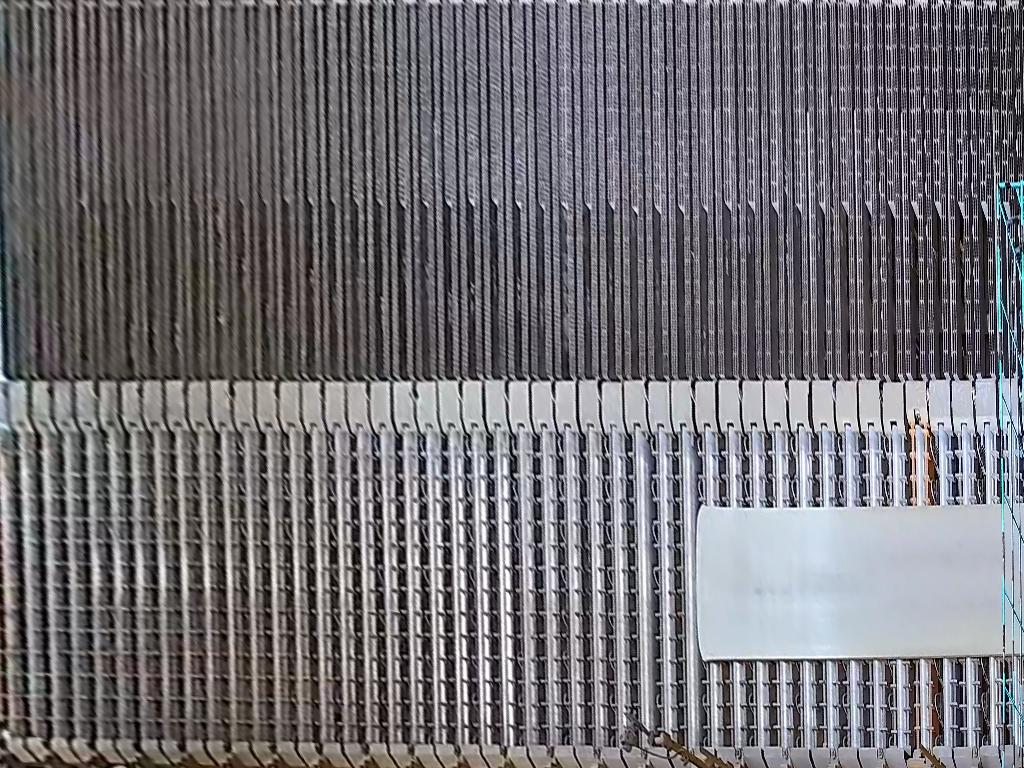steel: (694, 505, 1024, 661)
